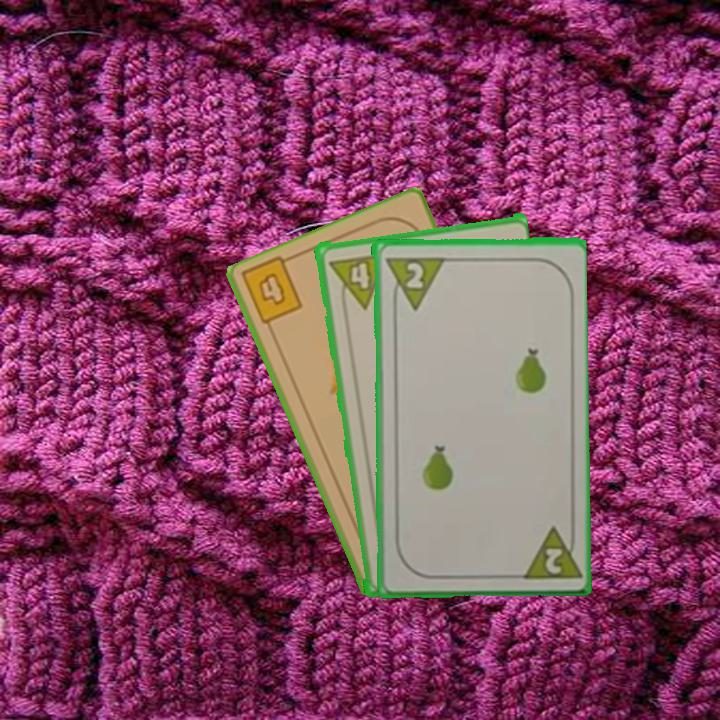2p: (516, 521, 581, 582), (381, 253, 445, 312)
4b: (253, 268, 288, 309)
4p: (324, 249, 390, 313)
